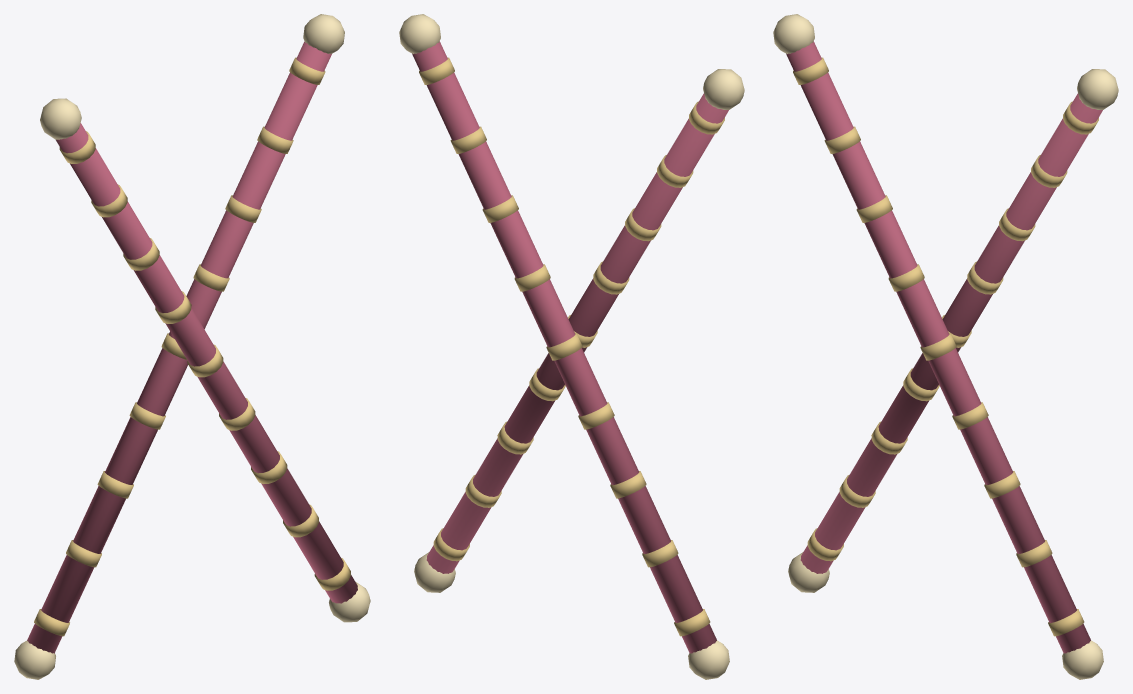
File: dandiya-pair.glb
3 views of the same model, side by side, from view 1: azimuth 30°, elevation 25°; view 2: azimuth 150°, elevation 25°; view 3: azimuth 330°, elevation 25° (orthographic).
Parts seen in each view (by area): view 1: wood-0, bands-1, finials-2; view 2: wood-0, bands-1, finials-2; view 3: wood-0, bands-1, finials-2.
Boxes of the visible parts, x1,y1,x2,y2 form: wood-0: (27, 41, 357, 653); bands-1: (34, 57, 350, 636); finials-2: (14, 14, 370, 679); wood-0: (412, 41, 728, 653); bands-1: (419, 57, 724, 636); finials-2: (399, 14, 744, 679); wood-0: (786, 41, 1102, 653); bands-1: (793, 57, 1098, 636); finials-2: (773, 14, 1118, 679).
Bounding box in the file's own units: 0.9407 × 1.62 × 0.206.
